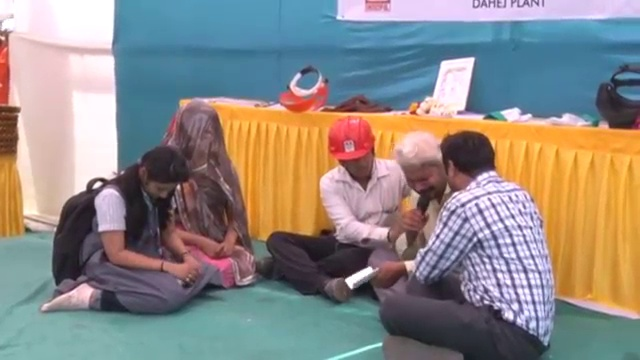helmet: (328, 116, 377, 164)
helmet_off: (440, 131, 503, 200), (128, 144, 190, 206), (170, 101, 223, 171), (395, 134, 447, 201)
helmet_on: (327, 116, 379, 183)
person: (372, 131, 561, 360), (44, 147, 216, 316), (264, 117, 406, 295), (157, 98, 252, 282), (370, 131, 451, 300)
